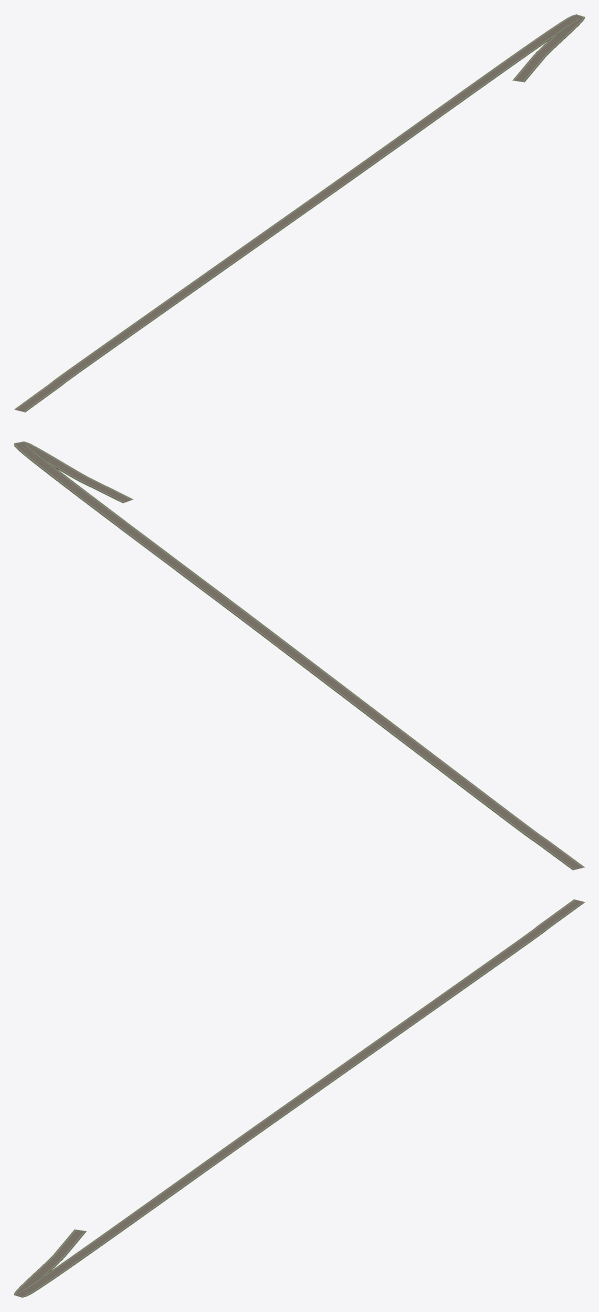
Rendered from road_roam_from_stage_pine_ridge.glb.
3 renders of one model, top to bottom at view 1: azimuth 90°, elevation 25°; view 2: azimuth 150°, elevation 25°; view 3: azimuth 270°, elevation 25°, orthographic. The views are drawn at different scales.
Parts seen in each view (by area): view 1: road; view 2: road; view 3: road.
Boxes of the visible parts, x1,y1,x2,y2 form: road: (14,14,584,412); road: (14,441,584,870); road: (14,899,584,1297).
Size of the model in its own units: 889 by 0.32 by 539.
